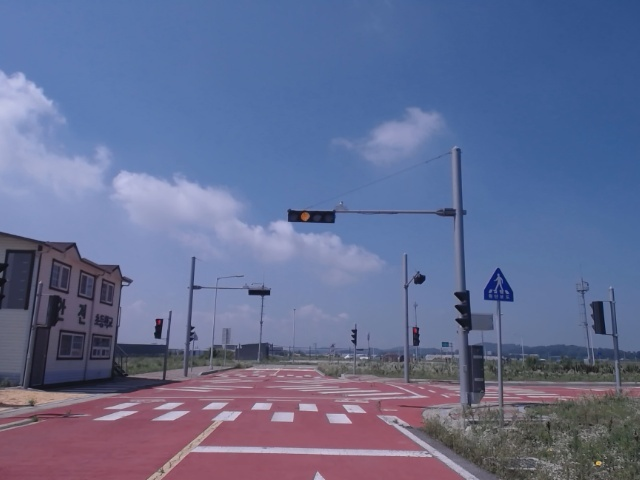orange_4: (287, 209, 336, 224)
